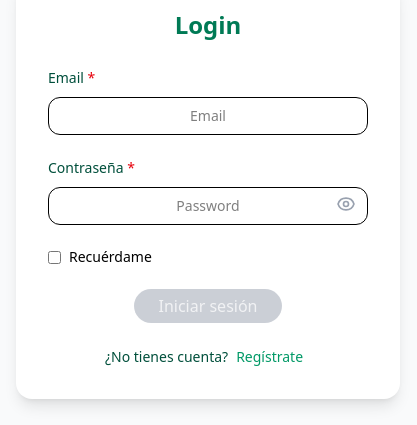
Test: LoginPage with Redux › Password toggle › toggles password visibility
Click the button named "mostrar contraseña" at (346, 204), box [336, 194, 356, 214]
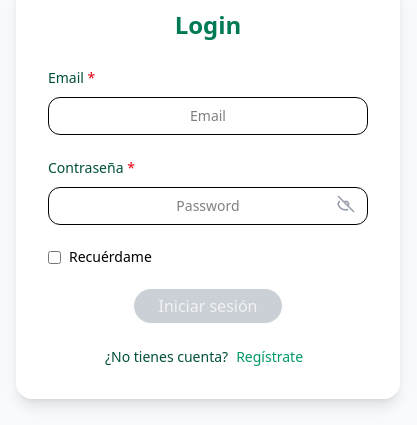
Now the button named "ocultar contraseña" is shown, box [336, 194, 356, 214]
